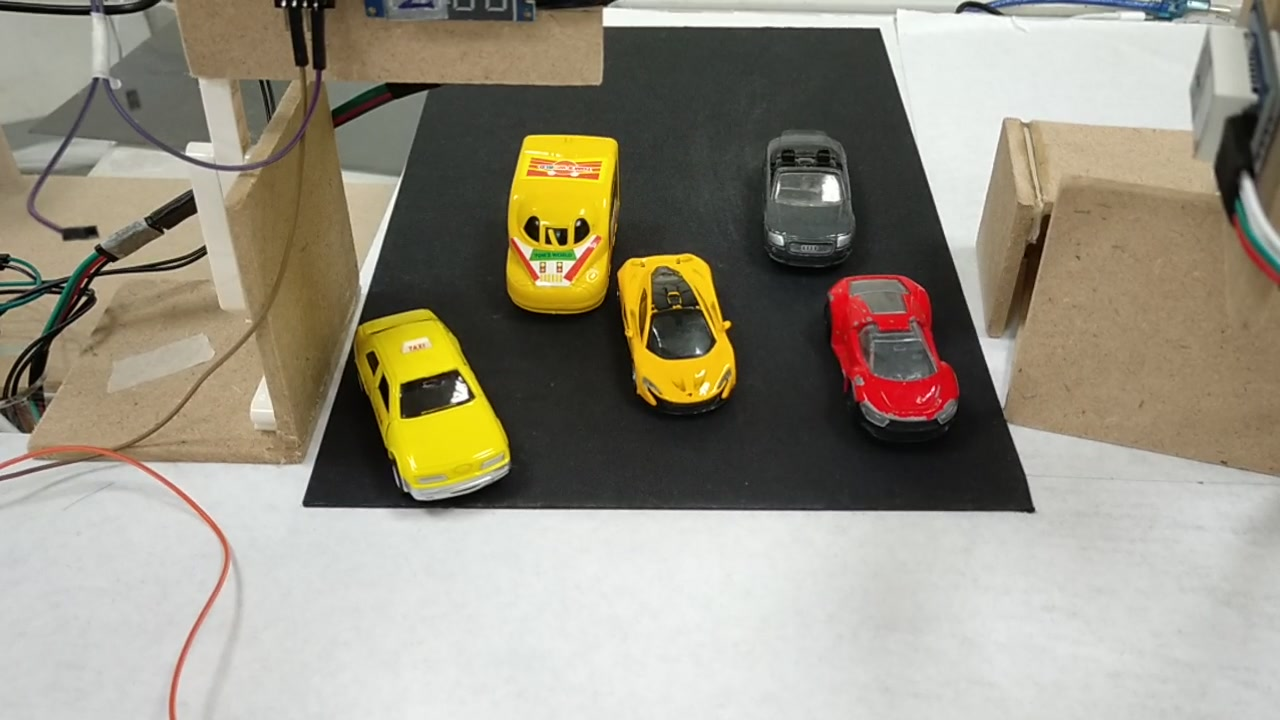car: (345, 322, 503, 494), (828, 277, 961, 447), (612, 257, 742, 415), (753, 127, 853, 267)
